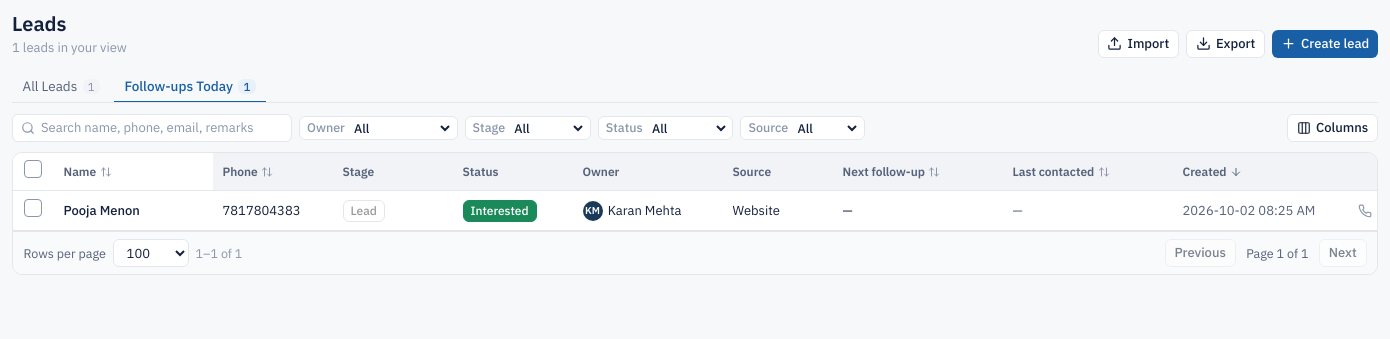
Test case: leads › maps legacy ?tab= links from the dashboard to the matching view and selects rows with a visible checked state
Expected: the link "Pooja Menon" is shown, [64,202,140,219]
Click the checkbox next to "Pooja Menon" at (32, 208), box [24,199,42,217]
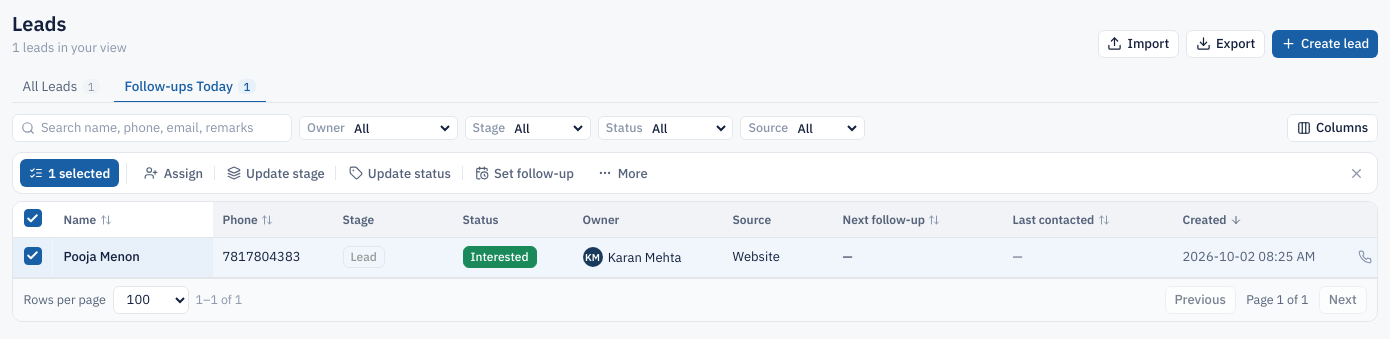
Expected: the text "1 selected" is shown, [20,159,119,187]
